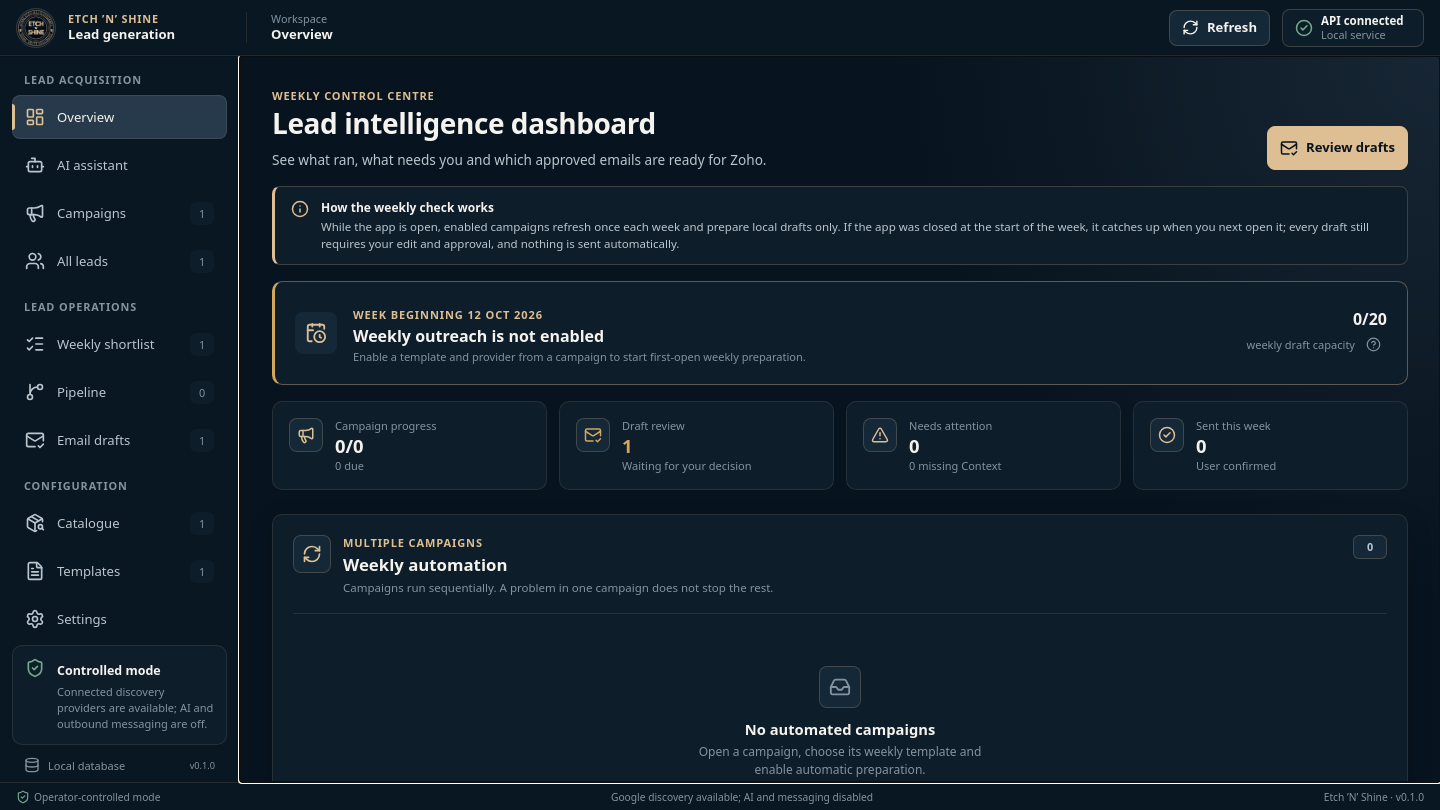
Test: local operating workbench › polishes one draft into the editor when cloud access is enabled
Expected: the text "API connected" is shown, x1=1321 y1=14 x2=1404 y2=28
Click the link "Email drafts 1": (120, 440) x1=25 y1=428 x2=214 y2=452
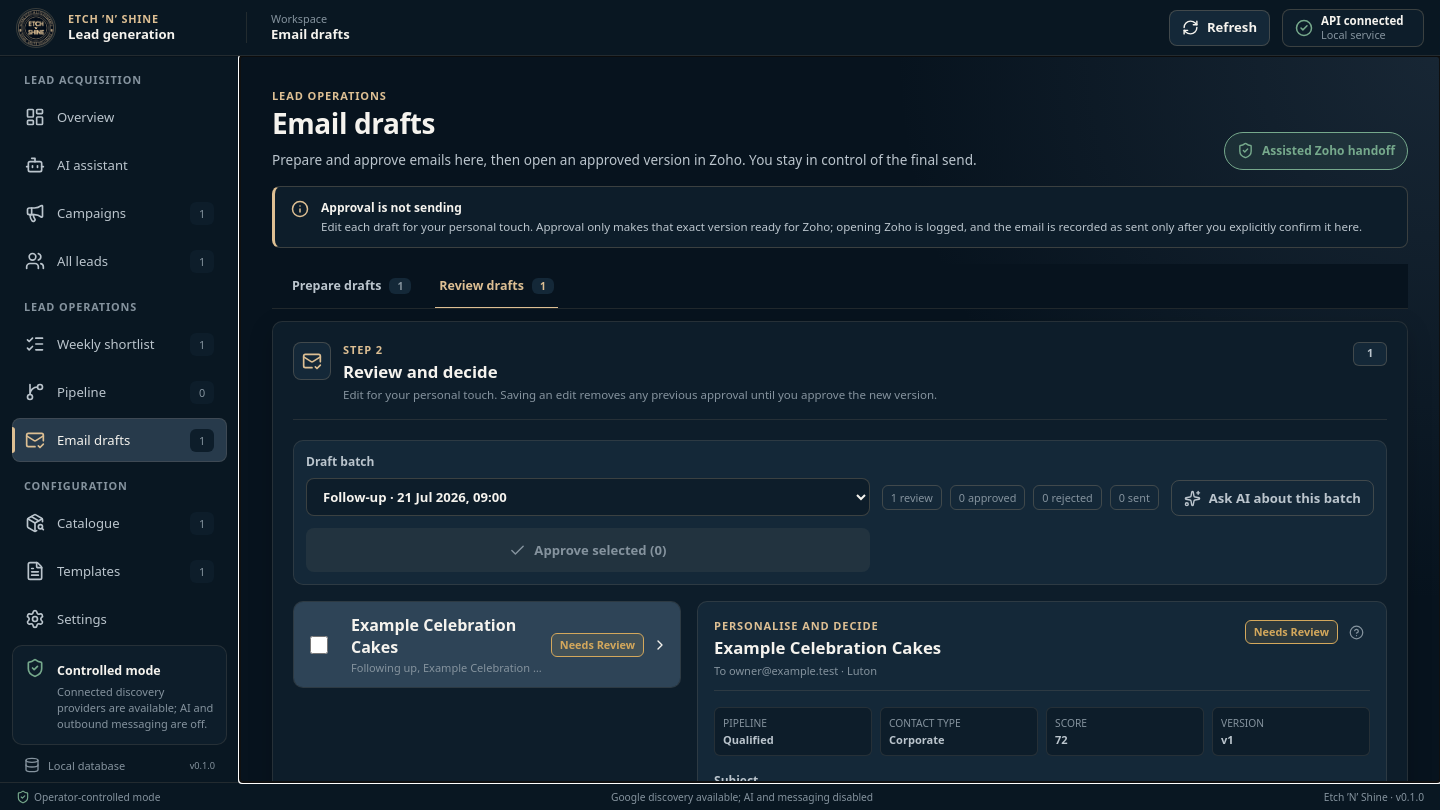
Click the tab "Review drafts 1": (497, 286) x1=427 y1=264 x2=566 y2=308
(page scrolled)
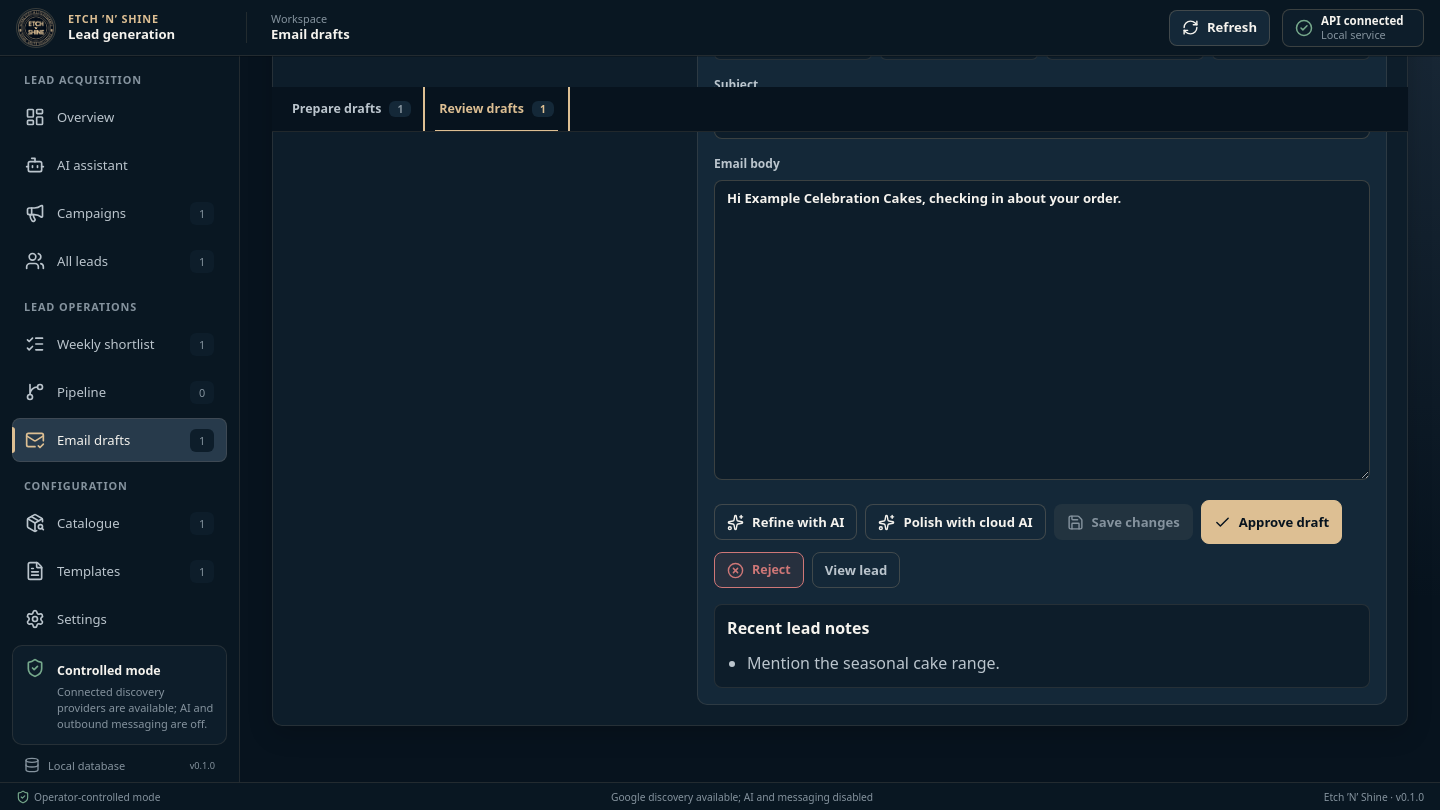
Click the button "Polish with cloud AI": (955, 522) x1=865 y1=504 x2=1046 y2=540
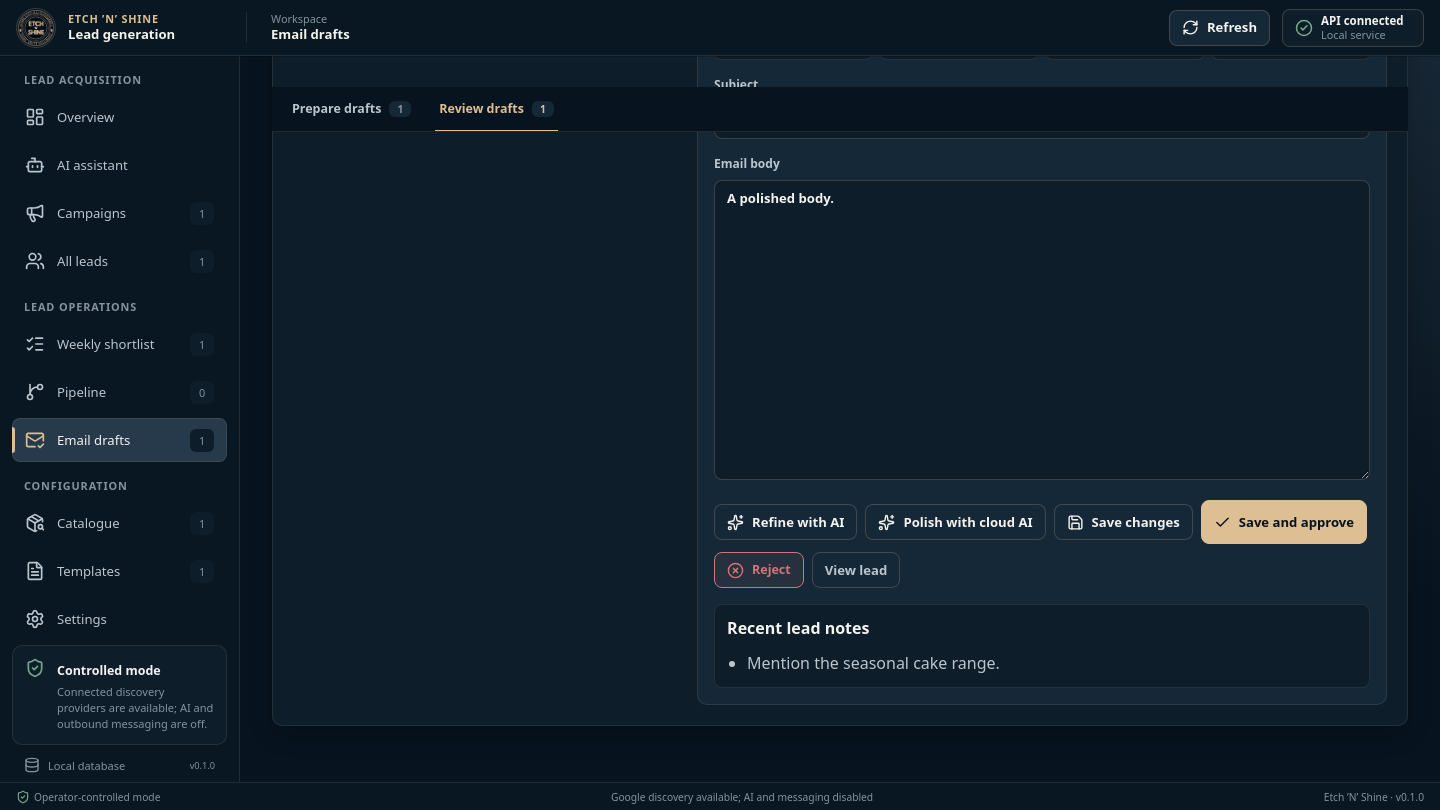
Expected: the field labelled "Subject" holds "A polished subject", x1=714 y1=101 x2=1370 y2=139
Expected: the text box labelled "Email body" holds "A polished body.", x1=714 y1=180 x2=1370 y2=480
